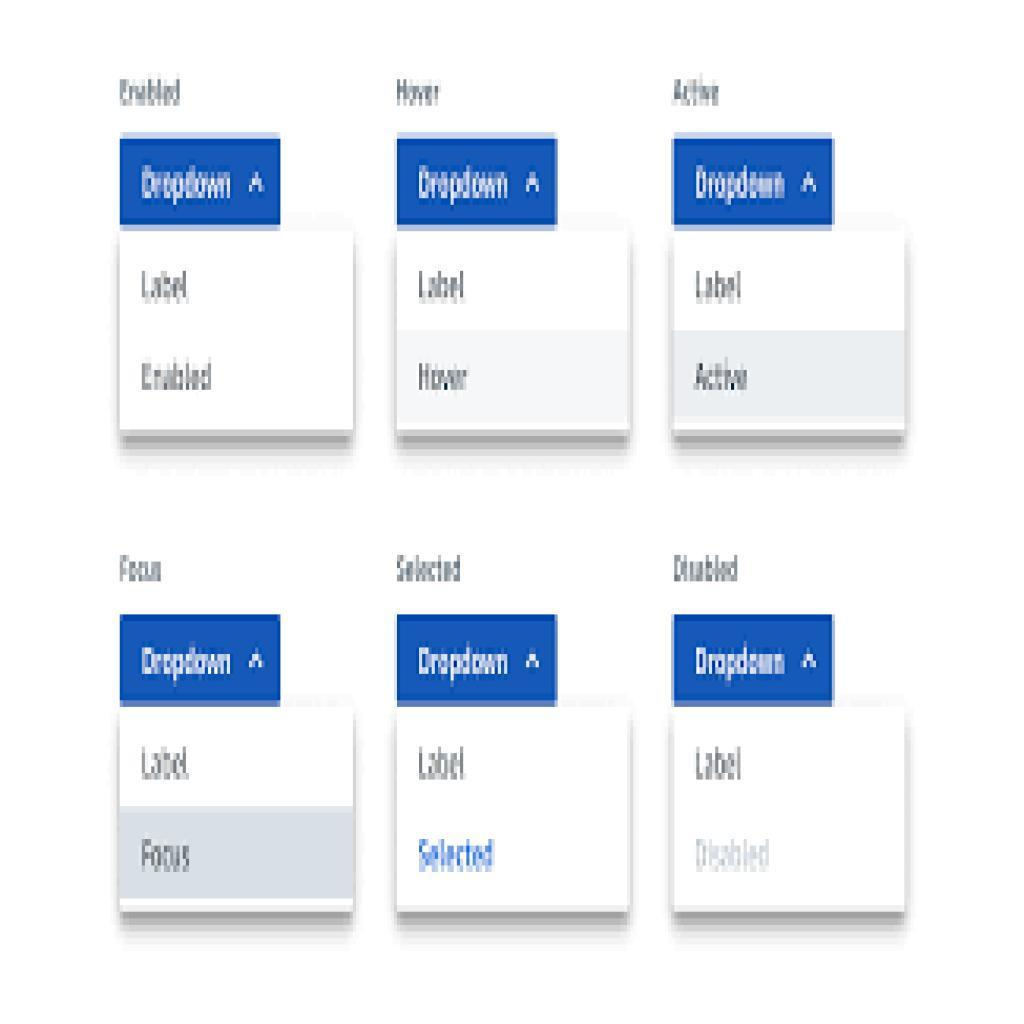dropdown: (120, 615, 283, 708), (398, 615, 557, 708), (675, 137, 835, 229), (122, 138, 283, 229), (396, 138, 560, 226), (675, 615, 832, 706)
